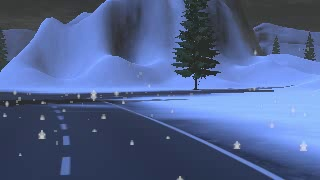Lane: (0, 89, 279, 179)
